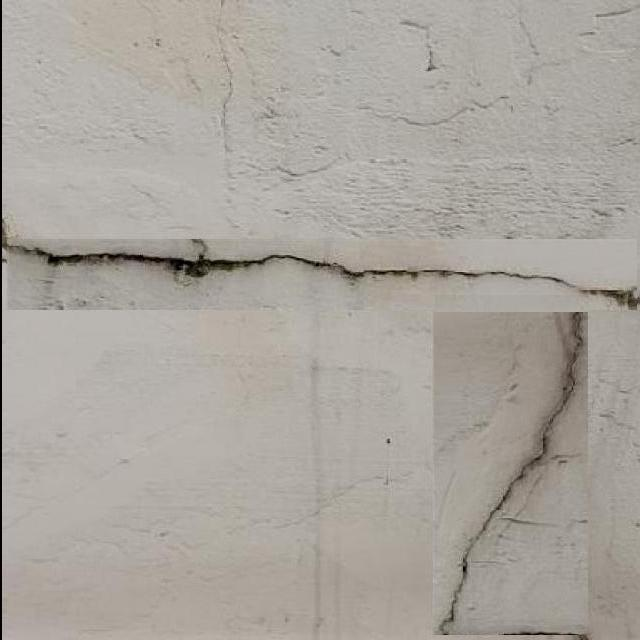Crack: (436, 311, 584, 633), (3, 239, 638, 304)
